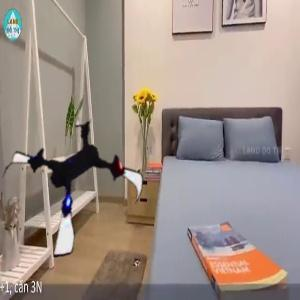drone: (1, 113, 149, 261)
